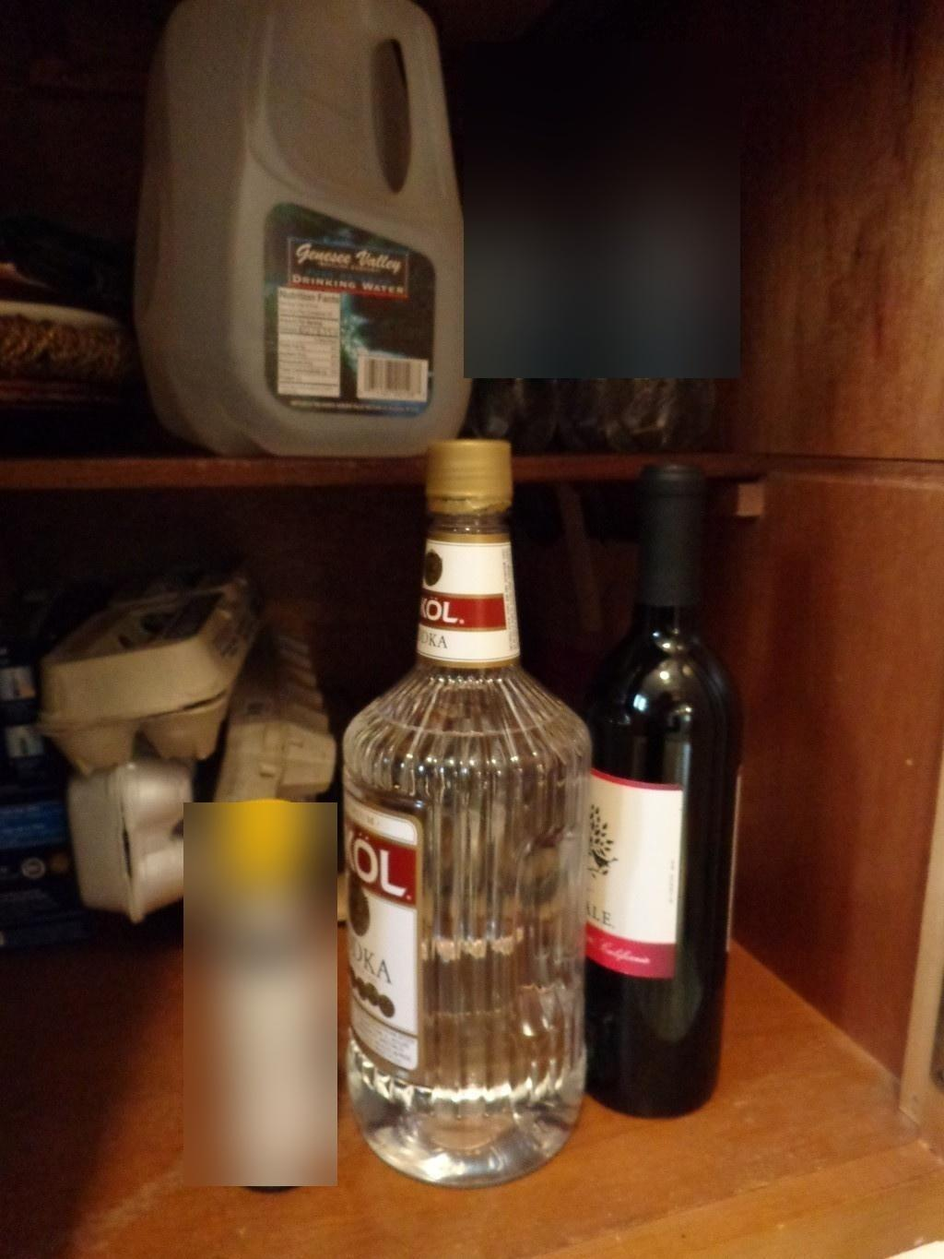bottle-glass: (330, 432, 593, 1192), (573, 460, 753, 1111)
